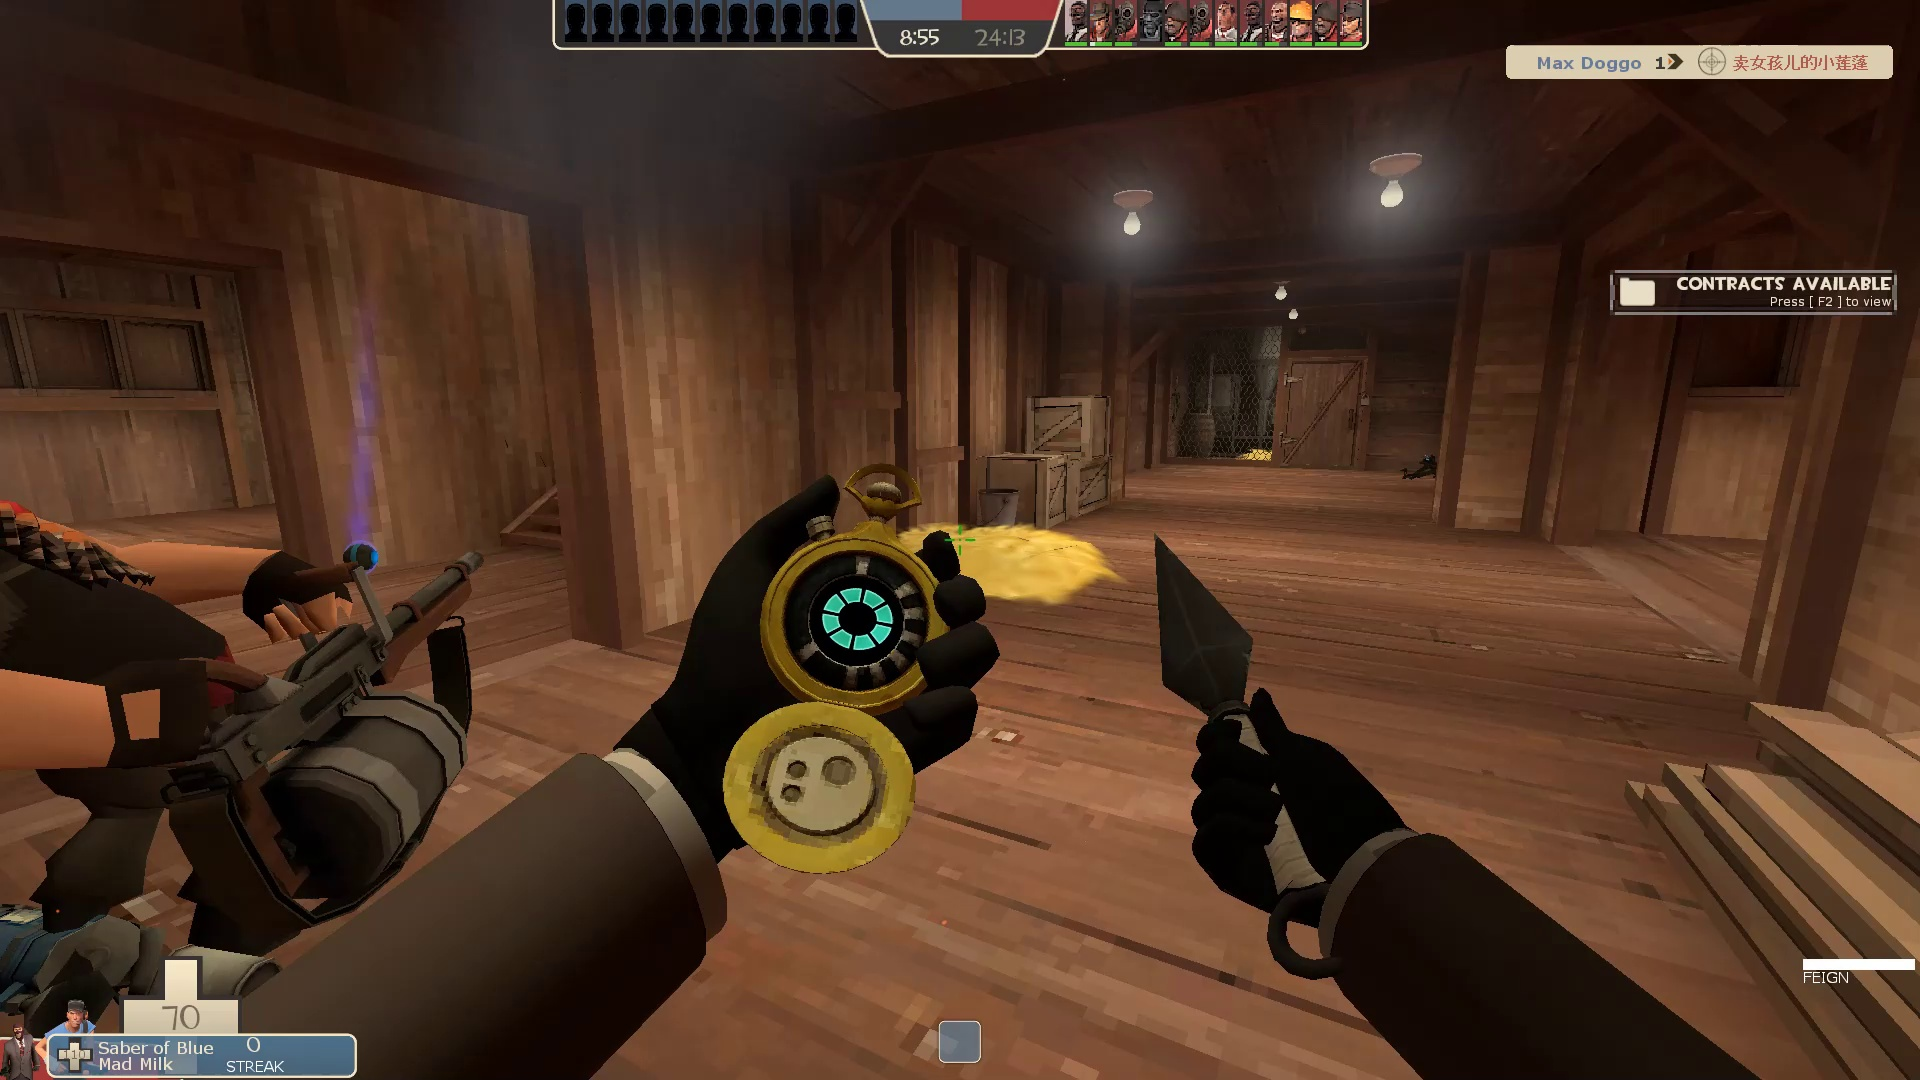red_heavy: (1, 404, 513, 1017)
